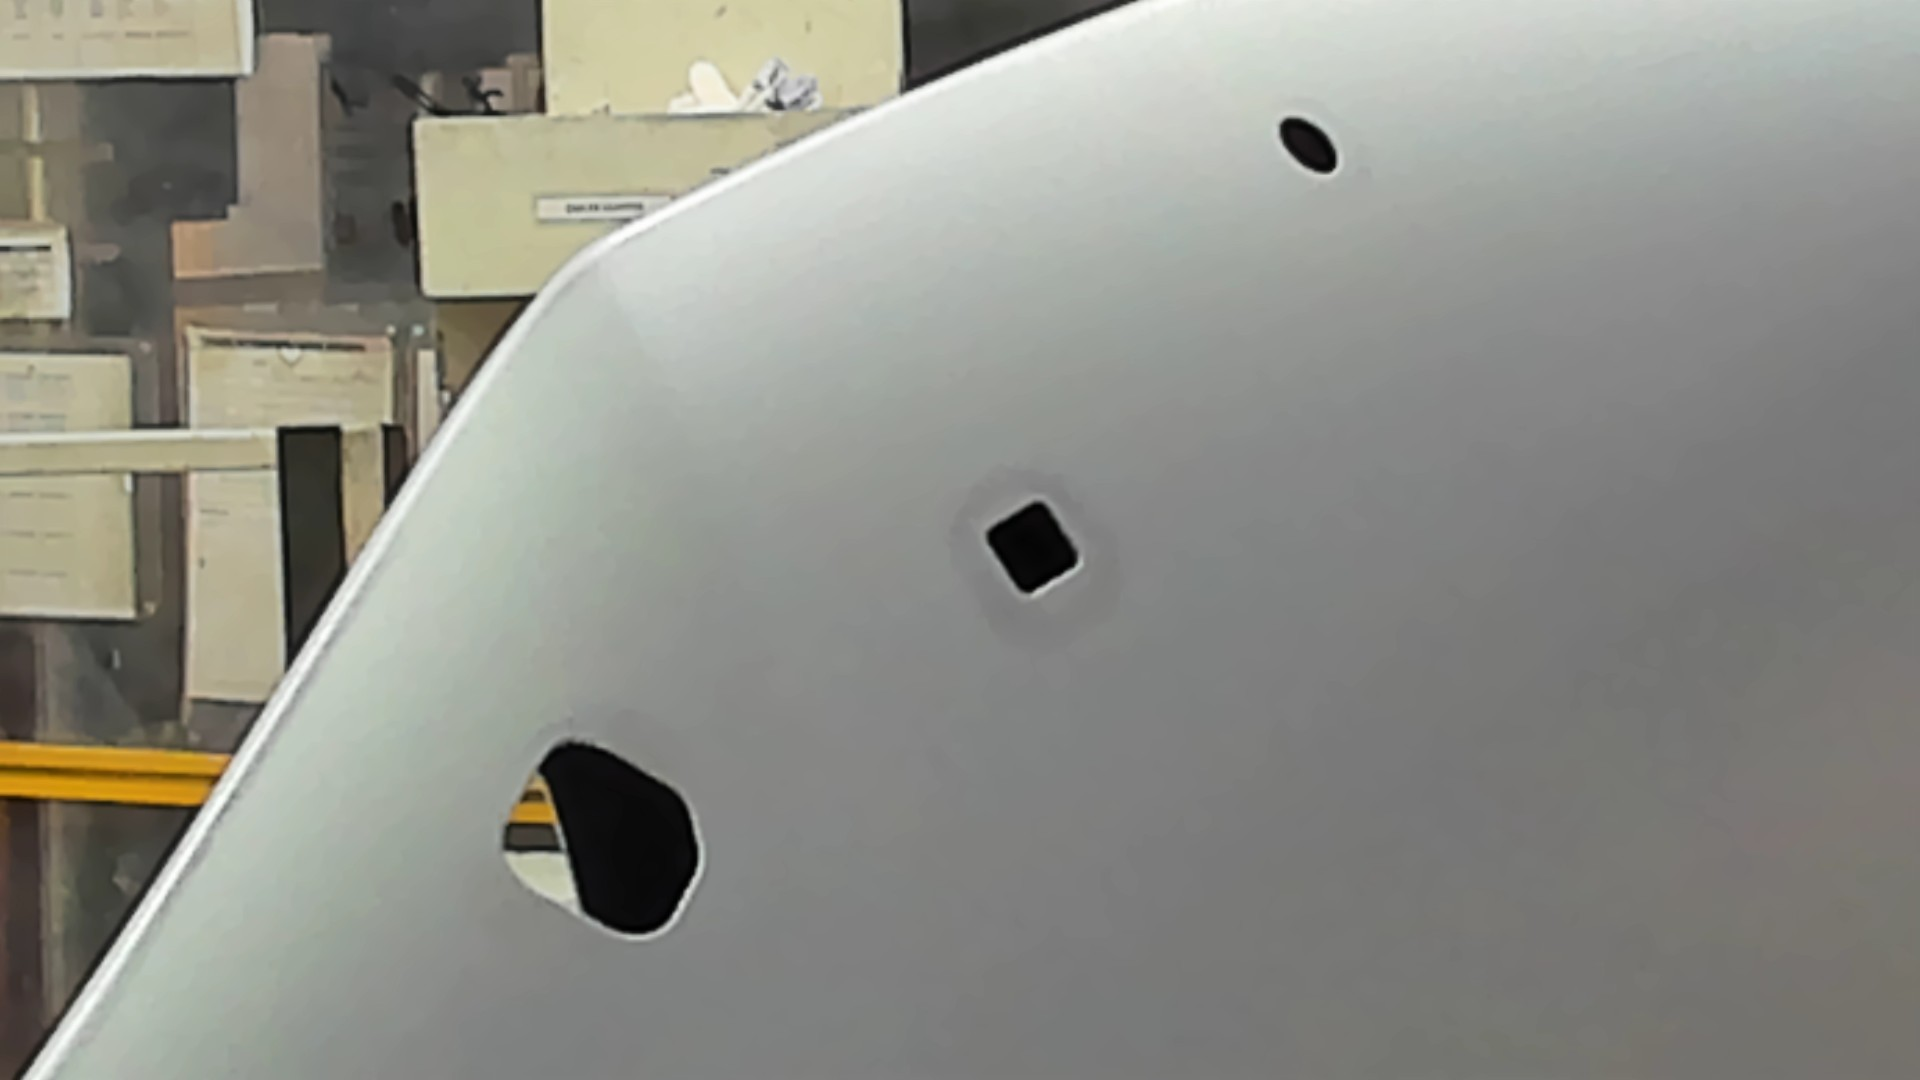chico: (1273, 109, 1345, 186)
grande: (502, 732, 711, 945)
mediano: (978, 491, 1084, 604)
